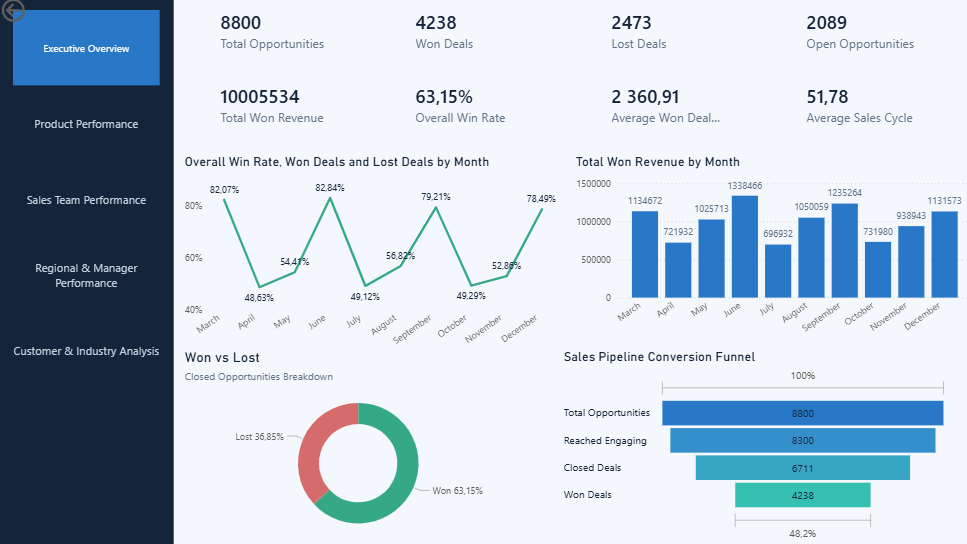

Layout of this report page (visuals, bound fields, positions):
{"tool":"powerbi","page":{"name":"Executive Overview","canvas":[1280,720],"ordinal":0},"visuals":[{"type":"shape","box":[0,0,230,720],"z":0},{"type":"pageNavigator","box":[20,20,192,496],"z":1000},{"type":"actionButton","box":[0,0,100,40],"z":2000},{"type":"funnel","title":"Sales Pipeline Conversion Funnel","fields":{"Category":["Funnel Stages.Stage"],"Y":["sales_pipeline.Funnel Stage Count"]},"box":[736,464,512,256],"z":3000},{"type":"cardVisual","fields":{"Data":["sales_pipeline.Average Sales Cycle"]},"box":[1040,96,192,96],"z":4000},{"type":"cardVisual","fields":{"Data":["sales_pipeline.Total Won Revenue"]},"box":[272,96,192,96],"z":5000},{"type":"cardVisual","fields":{"Data":["sales_pipeline.Overall Win Rate"]},"box":[528,96,192,96],"z":6000},{"type":"cardVisual","fields":{"Data":["sales_pipeline.Open Opportunities"]},"box":[1040,0,200,90],"z":7000},{"type":"cardVisual","fields":{"Data":["sales_pipeline.Lost Deals"]},"box":[784,0,200,90],"z":8000},{"type":"cardVisual","fields":{"Data":["sales_pipeline.Won Deals"]},"box":[528,0,200,90],"z":9000},{"type":"cardVisual","fields":{"Data":["sales_pipeline.Total Opportunities"]},"box":[272,0,200,90],"z":10000},{"type":"cardVisual","fields":{"Data":["sales_pipeline.Average Won Deal Value"]},"box":[784,96,192,96],"z":11000},{"type":"clusteredColumnChart","fields":{"Category":["Calendar.Month"],"Y":["sales_pipeline.Total Won Revenue"]},"box":[752,208,528,256],"z":12000},{"type":"lineChart","fields":{"Category":["Calendar.Month"],"Y":["sales_pipeline.Overall Win Rate"]},"box":[240,208,496,272],"z":13000},{"type":"donutChart","title":"Won vs Lost","fields":{"Y":["sales_pipeline.Closed Deals by Stage"],"Category":["sales_pipeline.deal_stage"]},"box":[240,464,464,256],"z":15000}]}

Visuals, with their boxes on the page's 1280x720 design canvas (x1, y1, x2, y2). These are canvas units, not pixel positions in the 967x544 screenshot, which may show the page scaled, cropped or inside an application window:
shape: [x1=0, y1=0, x2=230, y2=720]
pageNavigator: [x1=20, y1=20, x2=212, y2=516]
actionButton: [x1=0, y1=0, x2=100, y2=40]
"Sales Pipeline Conversion Funnel" funnel: [x1=736, y1=464, x2=1248, y2=720]
cardVisual - sales_pipeline.Average Sales Cycle: [x1=1040, y1=96, x2=1232, y2=192]
cardVisual - sales_pipeline.Total Won Revenue: [x1=272, y1=96, x2=464, y2=192]
cardVisual - sales_pipeline.Overall Win Rate: [x1=528, y1=96, x2=720, y2=192]
cardVisual - sales_pipeline.Open Opportunities: [x1=1040, y1=0, x2=1240, y2=90]
cardVisual - sales_pipeline.Lost Deals: [x1=784, y1=0, x2=984, y2=90]
cardVisual - sales_pipeline.Won Deals: [x1=528, y1=0, x2=728, y2=90]
cardVisual - sales_pipeline.Total Opportunities: [x1=272, y1=0, x2=472, y2=90]
cardVisual - sales_pipeline.Average Won Deal Value: [x1=784, y1=96, x2=976, y2=192]
clusteredColumnChart - Calendar.Month x sales_pipeline.Total Won Revenue: [x1=752, y1=208, x2=1280, y2=464]
lineChart - Calendar.Month x sales_pipeline.Overall Win Rate: [x1=240, y1=208, x2=736, y2=480]
"Won vs Lost" donutChart: [x1=240, y1=464, x2=704, y2=720]
